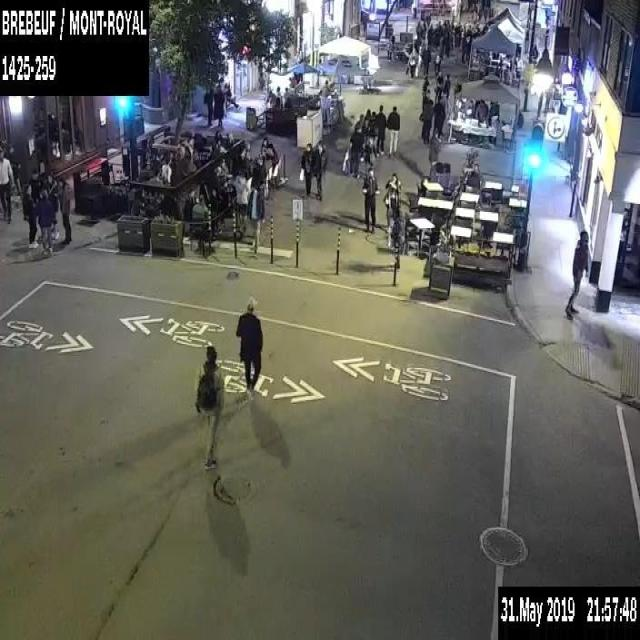construction: (405, 16, 408, 31)
pedestrian: (193, 343, 224, 469), (234, 294, 262, 398), (563, 228, 588, 319), (247, 174, 263, 258), (232, 171, 247, 257), (384, 171, 400, 245), (35, 191, 53, 255), (42, 172, 58, 240), (0, 149, 15, 220), (22, 181, 38, 247), (58, 173, 72, 244), (362, 168, 377, 232), (300, 138, 313, 198), (349, 120, 362, 177), (314, 139, 326, 199), (319, 76, 333, 125), (419, 97, 434, 140), (386, 106, 399, 155), (374, 103, 386, 154), (428, 126, 439, 177), (488, 99, 499, 148), (213, 83, 224, 127), (202, 81, 212, 128), (538, 84, 553, 115), (192, 192, 208, 221), (440, 72, 451, 111), (420, 44, 432, 76), (474, 98, 487, 122), (527, 40, 538, 67), (361, 66, 370, 95), (432, 53, 440, 79), (521, 80, 527, 111), (265, 90, 275, 107), (275, 84, 281, 108), (283, 86, 289, 104)
